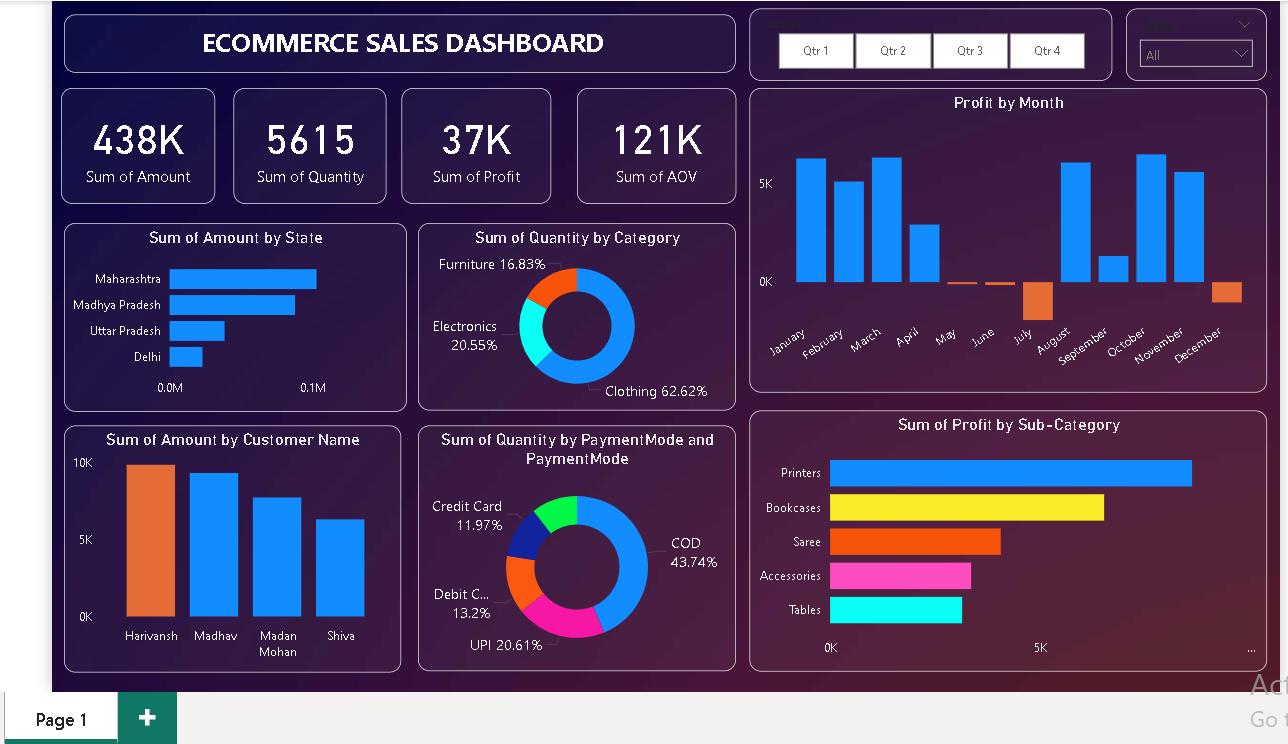

What the dashboard file says about the page in this screenshot:
{"tool":"powerbi","page":{"name":"Page 1","canvas":[1280,720],"ordinal":0},"visuals":[{"type":"textbox","box":[12.5,14.1,700.2,61],"z":0},{"type":"columnChart","title":"Profit by Month","fields":{"Y":["Details.Profit"],"Category":["Orders.Order Date.Variation.Date Hierarchy.Month"]},"box":[726.8,90.7,539.2,317.3],"z":1000},{"type":"barChart","fields":{"Category":["Details.Sub-Category"],"Y":["Details.Profit"]},"box":[726.8,426.7,539.2,272],"z":2000},{"type":"donutChart","fields":{"Category":["Details.Category"],"Y":["Details.Quantity"]},"box":[381.4,231.3,331.4,195.4],"z":3000},{"type":"donutChart","fields":{"Category":["Details.PaymentMode"],"Y":["Details.Quantity"],"Series":["Details.PaymentMode"]},"box":[381.4,442.3,331.4,256.3],"z":4000},{"type":"card","fields":{"Values":["Details.Amount"]},"box":[9.4,90.7,161,120.4],"z":5000},{"type":"card","fields":{"Values":["Details.AOV"]},"box":[547,90.7,165.7,120.4],"z":6000},{"type":"card","fields":{"Values":["Details.Profit"]},"box":[364.2,90.7,156.3,120.4],"z":7000},{"type":"card","fields":{"Values":["Details.Quantity"]},"box":[189.1,90.7,159.4,120.4],"z":8000},{"type":"barChart","fields":{"Category":["Orders.State"],"Y":["Details.Amount"]},"box":[13.2,230.6,357.2,196.5],"z":9000},{"type":"columnChart","title":"Sum of Amount by Customer Name","fields":{"Y":["Details.Amount"],"Category":["Orders.CustomerName"]},"box":[13.2,442.2,351.5,257],"z":10000},{"type":"slicer","fields":{"Values":["Orders.Order Date.Variation.Date Hierarchy.Quarter"]},"box":[726.8,7.8,378.2,75],"z":11000},{"type":"slicer","fields":{"Values":["Orders.State"]},"box":[1119.1,7.8,146.9,75],"z":12000}]}

Visuals, with their boxes in screenshot pixels (x1, y1, x2, y2):
textbox: [49, 7, 744, 68]
"Profit by Month" columnChart: [758, 83, 1287, 398]
barChart - Details.Sub-Category x Details.Profit: [758, 417, 1287, 687]
donutChart - Details.Category x Details.Quantity: [415, 223, 744, 417]
donutChart - Details.PaymentMode x Details.Quantity: [415, 432, 744, 687]
card - Details.Amount: [46, 83, 206, 203]
card - Details.AOV: [580, 83, 744, 203]
card - Details.Profit: [398, 83, 553, 203]
card - Details.Quantity: [225, 83, 383, 203]
barChart - Orders.State x Details.Amount: [50, 222, 404, 417]
"Sum of Amount by Customer Name" columnChart: [50, 432, 399, 687]
slicer - Orders.Order Date.Variation.Date Hierarchy.Quarter: [758, 1, 1133, 75]
slicer - Orders.State: [1147, 1, 1287, 75]
